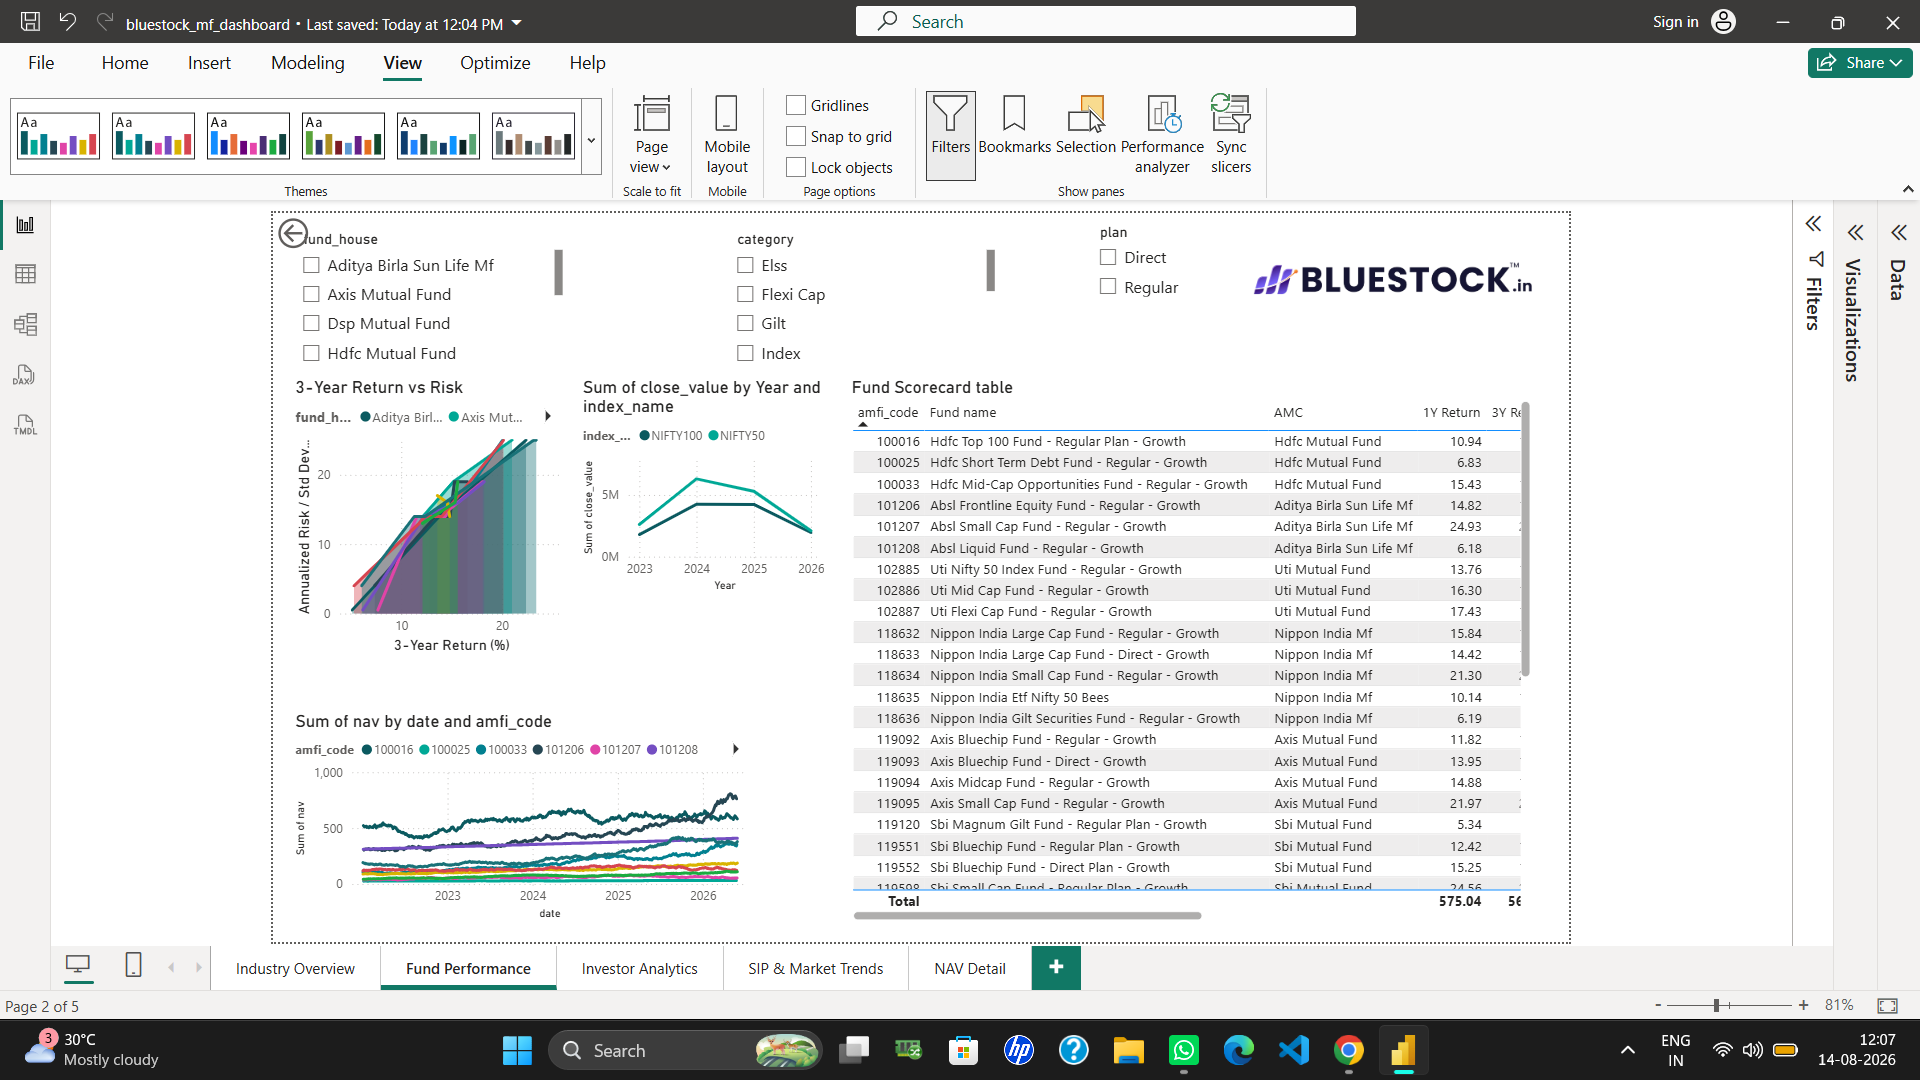

What the dashboard file says about the page in this screenshot:
{"tool":"powerbi","page":{"name":"Fund Performance","canvas":[1280,720],"ordinal":1},"visuals":[{"type":"slicer","fields":{"Values":["Cleaned_07_scheme_performance (1) (1).fund_house"]},"box":[17.7,12.7,273.4,143],"z":0},{"type":"slicer","fields":{"Values":["Cleaned_07_scheme_performance (1) (1).category"]},"box":[445.6,12.7,272.2,149.4],"z":1000},{"type":"slicer","fields":{"Values":["Cleaned_07_scheme_performance (1) (1).plan"]},"box":[803.8,5.1,272.2,150.6],"z":2000},{"type":"stackedAreaChart","title":"3-Year Return vs Risk","fields":{"Category":["Cleaned_07_scheme_performance (1) (1).return_3yr_pct"],"Y":["Sum(Cleaned_07_scheme_performance (1) (1).std_dev_ann_pct)"],"Series":["Cleaned_07_scheme_performance (1) (1).fund_house"]},"box":[17.1,161.4,273.9,277.6],"z":3000},{"type":"tableEx","title":"Fund Scorecard table","fields":{"Values":["Cleaned_07_scheme_performance.amfi_code","Cleaned_07_scheme_performance (1) (1).scheme_name","Cleaned_07_scheme_performance (1) (1).fund_house","Sum(Cleaned_07_scheme_performance (1) (1).return_1yr_pct)","Sum(Cleaned_07_scheme_performance (1) (1).return_3yr_pct)","Sum(Cleaned_07_scheme_performance (1) (1).return_5yr_pct)","Sum(Cleaned_07_scheme_performance (1) (1).alpha)","Sum(Cleaned_07_scheme_performance (1) (1).sortino_ratio)","Cleaned_07_scheme_performance (1) (1).std_dev_ann_pct","Sum(Cleaned_07_scheme_performance (1) (1).max_drawdown_pct)","Sum(Cleaned_07_scheme_performance (1) (1).aum_crore)","Sum(Cleaned_07_scheme_performance (1) (1).expense_ratio_pct)"]},"box":[566.2,161.4,679.9,541.7],"z":4000},{"type":"lineChart","fields":{"Category":["Cleaned_02_nav_history (1).date"],"Y":["Sum(Cleaned_02_nav_history (1).nav)"],"Series":["Cleaned_02_nav_history (1).amfi_code"]},"box":[17.7,491.1,459.5,211.4],"z":5000},{"type":"lineChart","fields":{"Category":["Cleaned_10_benchmark_indices.date.Variation.Date Hierarchy.Year","Cleaned_10_benchmark_indices.date.Variation.Date Hierarchy.Quarter","Cleaned_10_benchmark_indices.date.Variation.Date Hierarchy.Month","Cleaned_10_benchmark_indices.date.Variation.Date Hierarchy.Day"],"Y":["Sum(Cleaned_10_benchmark_indices.close_value)"],"Series":["Cleaned_10_benchmark_indices.index_name"]},"box":[300.8,161.4,248.2,217.7],"z":6000},{"type":"actionButton","box":[0,0,100,40],"z":7000},{"type":"image","box":[967.6,4.4,277.9,119.1],"z":7001}]}

Visuals, with their boxes on the page's 1280x720 design canvas (x1, y1, x2, y2). These are canvas units, not pixel positions in the 1920x1080 screenshot, which may show the page scaled, cropped or inside an application window:
slicer - Cleaned_07_scheme_performance (1) (1).fund_house: x1=18, y1=13, x2=291, y2=156
slicer - Cleaned_07_scheme_performance (1) (1).category: x1=446, y1=13, x2=718, y2=162
slicer - Cleaned_07_scheme_performance (1) (1).plan: x1=804, y1=5, x2=1076, y2=156
"3-Year Return vs Risk" stackedAreaChart: x1=17, y1=161, x2=291, y2=439
"Fund Scorecard table" tableEx: x1=566, y1=161, x2=1246, y2=703
lineChart - Cleaned_02_nav_history (1).date x Sum(Cleaned_02_nav_history (1).nav): x1=18, y1=491, x2=477, y2=702
lineChart - Cleaned_10_benchmark_indices.date.Variation.Date Hierarchy.Year x Cleaned_10_benchmark_indices.date.Variation.Date Hierarchy.Quarter: x1=301, y1=161, x2=549, y2=379
actionButton: x1=0, y1=0, x2=100, y2=40
image: x1=968, y1=4, x2=1246, y2=124
